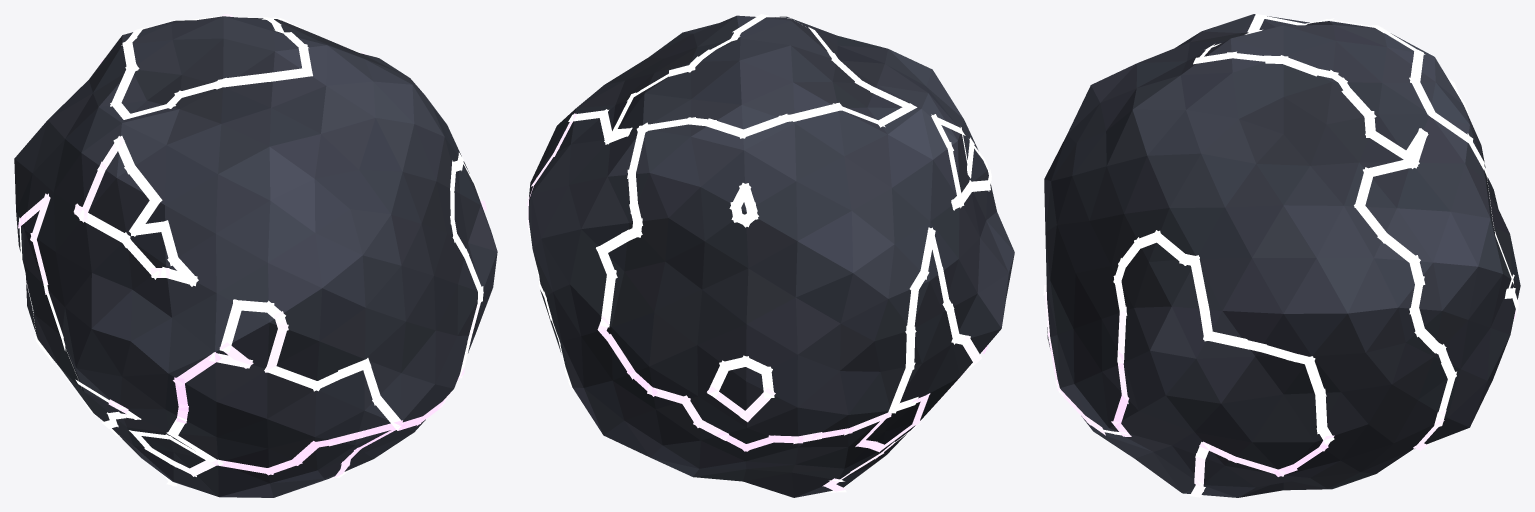
File: riftbound_boulder.glb
The picture shows the model from 3 angles, left to right: view 1: azimuth 30°, elevation 25°; view 2: azimuth 150°, elevation 25°; view 3: azimuth 270°, elevation 25°; orthographic projection. The views are drawn at different scales.
Parts seen in each view (by area): view 1: riftbound_boulder_stone, riftbound_boulder_veins; view 2: riftbound_boulder_stone, riftbound_boulder_veins; view 3: riftbound_boulder_stone, riftbound_boulder_veins.
Part boxes in pixels (x1=…): riftbound_boulder_stone: x1=14, y1=16, x2=497, y2=497; riftbound_boulder_veins: x1=18, y1=14, x2=486, y2=486; riftbound_boulder_stone: x1=528, y1=15, x2=1014, y2=497; riftbound_boulder_veins: x1=526, y1=14, x2=998, y2=492; riftbound_boulder_stone: x1=1044, y1=14, x2=1520, y2=497; riftbound_boulder_veins: x1=1043, y1=14, x2=1518, y2=497.
Bounding box in the file's own units: 1.95 × 2 × 1.93.
